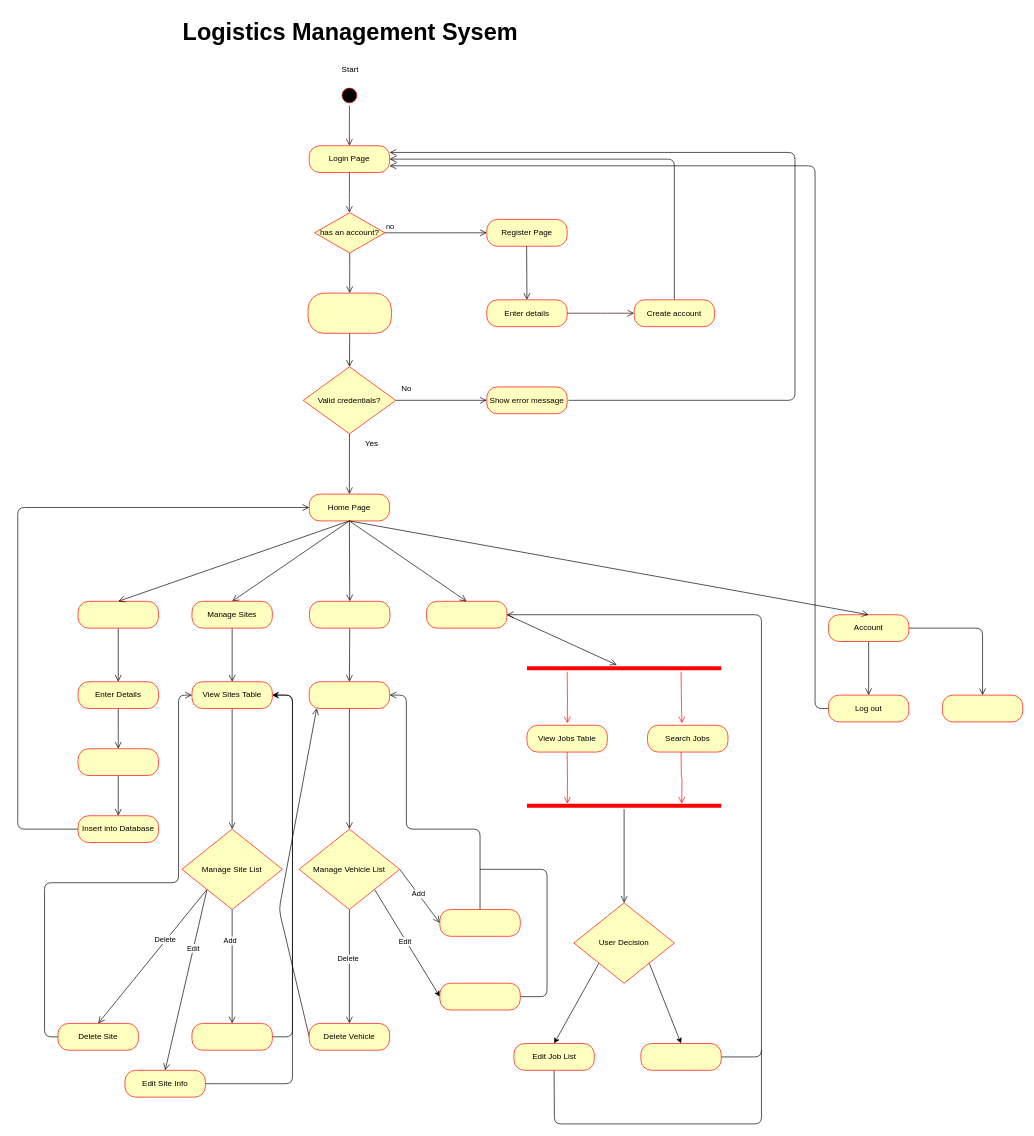
This 1034x1136 diagram has some shape labels left out. The box of each missing label's shape, as (x1, y1, x2, y2) in pixels:
Add New Site: (191, 1023, 272, 1050)
Add New Vehicle: (439, 909, 520, 936)
Create Job: (77, 601, 158, 628)
Delete Job: (640, 1043, 721, 1070)
Edit Vehicle Info: (439, 983, 520, 1010)
Enter Username/Password: (307, 292, 391, 333)
Job Report: (426, 601, 507, 628)
Manage Vehicles: (309, 601, 390, 628)
Profile: (942, 694, 1023, 722)
Submit New Job: (77, 748, 158, 776)
View Fleet Table: (309, 681, 390, 709)
